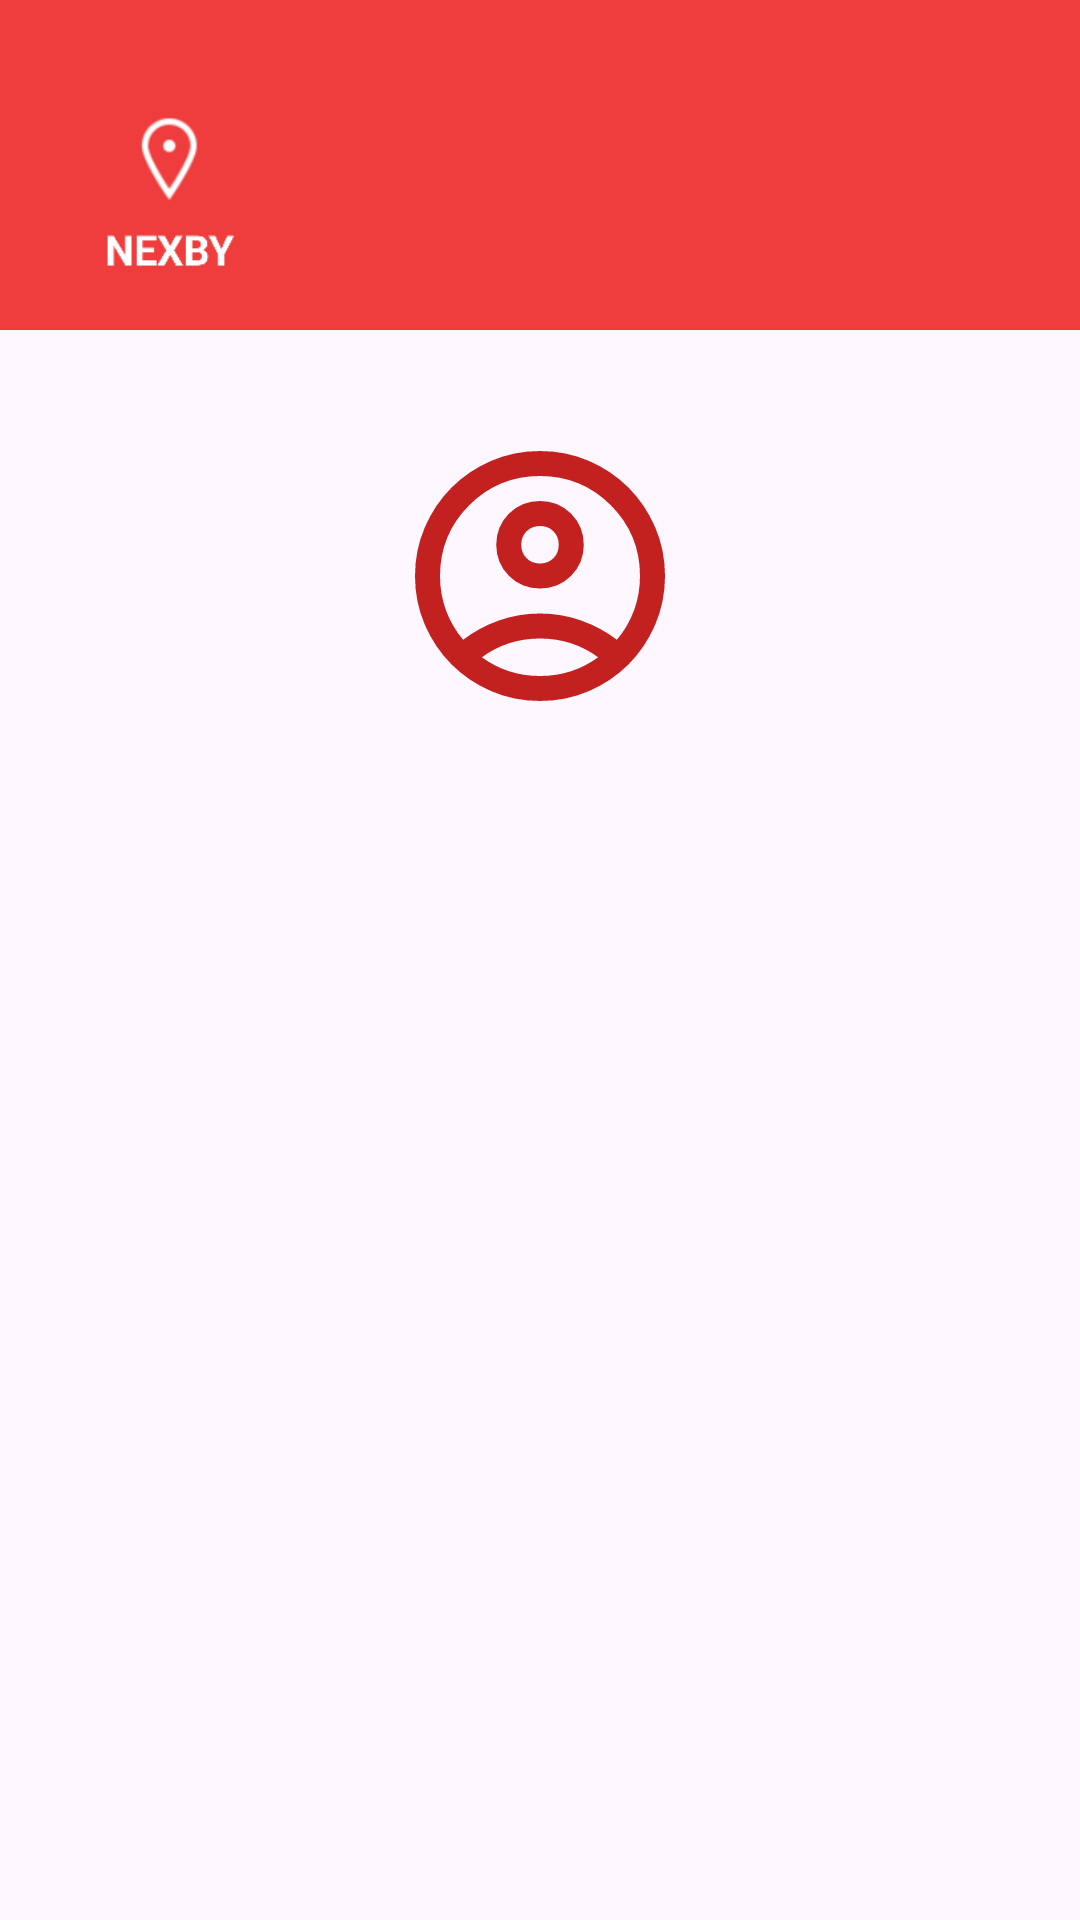

Named icons in this screenshot (1080px×1920px) and their bounding boxes, (x1, y1, x2, y2):
Слика: (415, 451, 665, 701)
